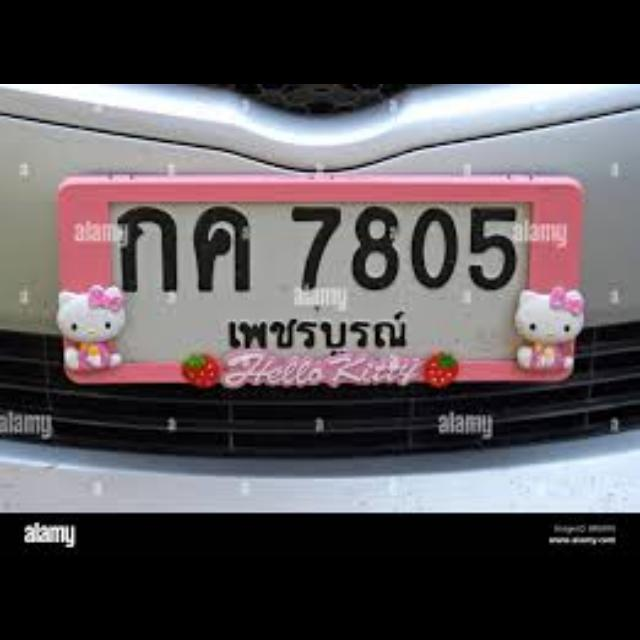licenseplate: (57, 172, 581, 380)
